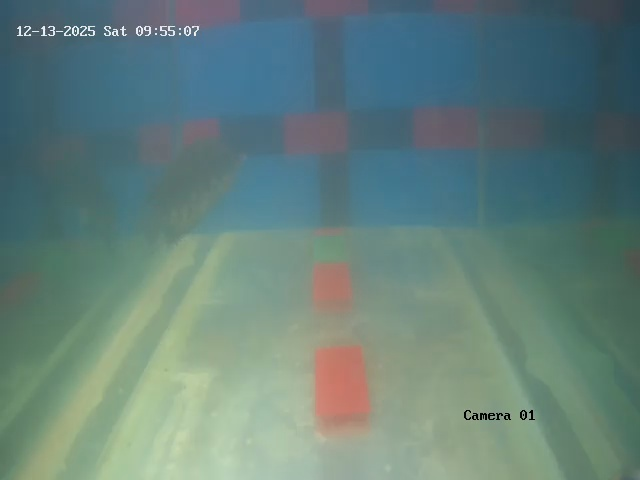fish: (137, 125, 260, 252)
